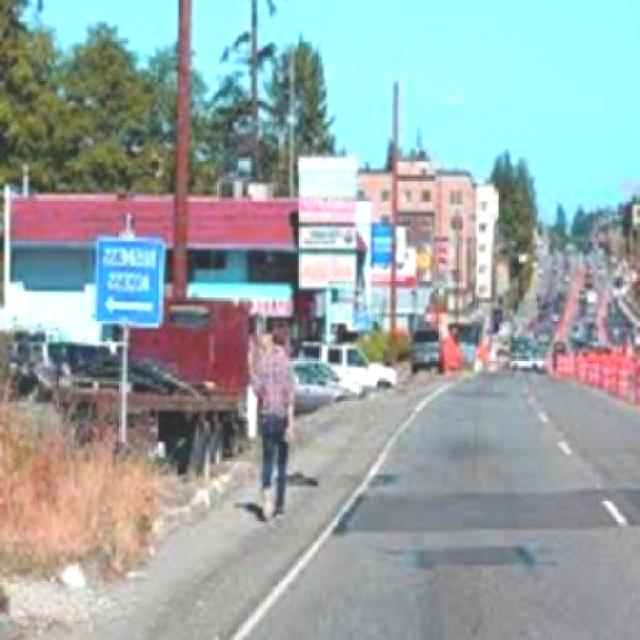Person: (248, 318, 306, 522)
